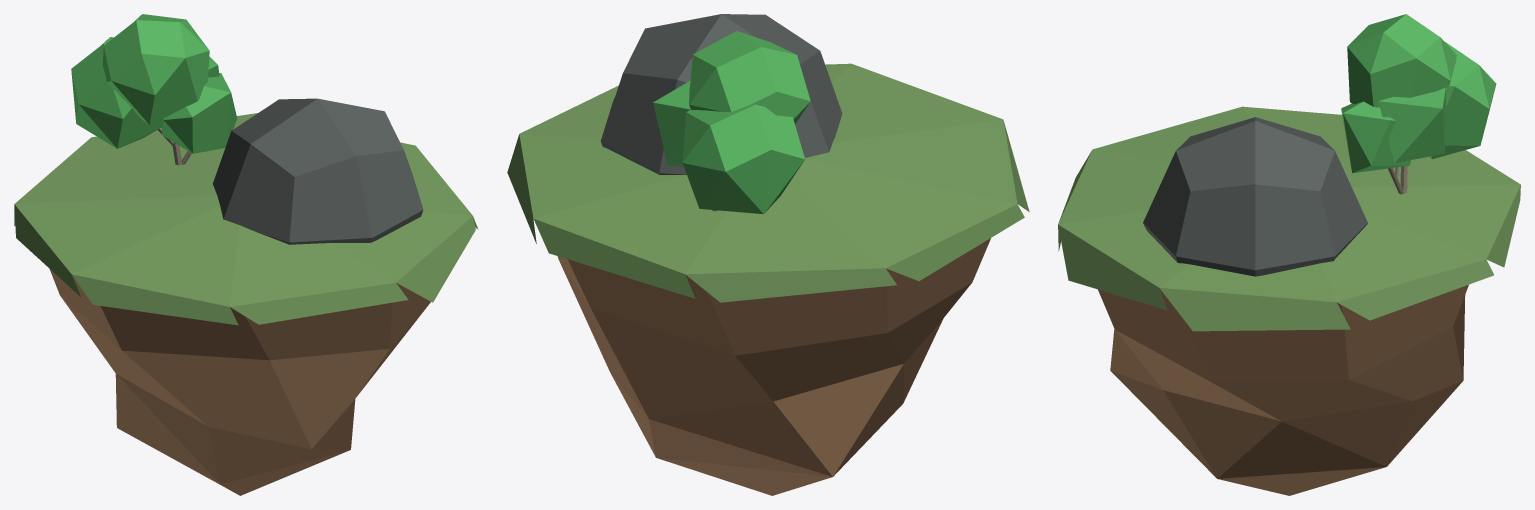
File: SM_MiniIsland02.fbx
3 views of the same model, side by side, from view 1: azimuth 30°, elevation 25°; view 2: azimuth 150°, elevation 25°; view 3: azimuth 270°, elevation 25° (orthographic). The views are drawn at different scales.
Visible parts, largest first — view 1: miniIsland01.001, Cube.002, Cylinder.001; view 2: miniIsland01.001, Cylinder.001, Cube.002; view 3: miniIsland01.001, Cube.002, Cylinder.001.
Boxes of the visible parts, x1,y1,x2,y2 form: miniIsland01.001: [14, 113, 478, 495]; Cube.002: [213, 98, 423, 244]; Cylinder.001: [71, 14, 237, 165]; miniIsland01.001: [507, 63, 1029, 495]; Cylinder.001: [653, 31, 810, 214]; Cube.002: [601, 14, 842, 174]; miniIsland01.001: [1058, 106, 1520, 495]; Cube.002: [1143, 117, 1367, 276]; Cylinder.001: [1341, 14, 1496, 194].
Bounding box in the file's own units: 486 × 528 × 483.
